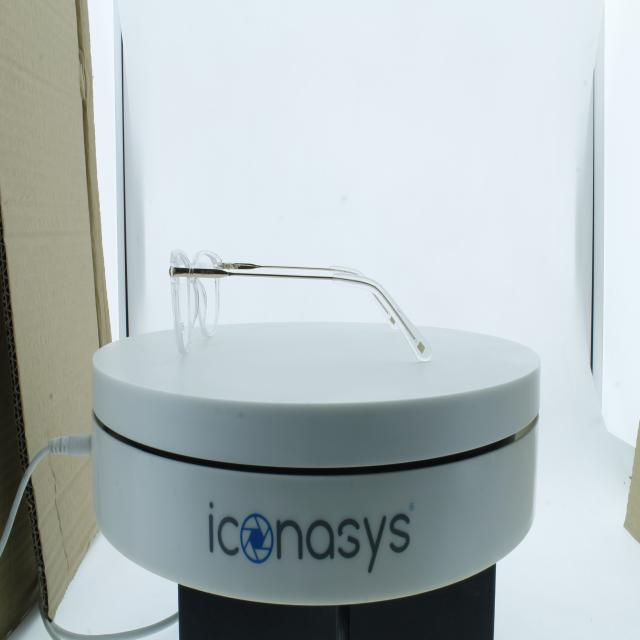Specs: (164, 238, 440, 371)
